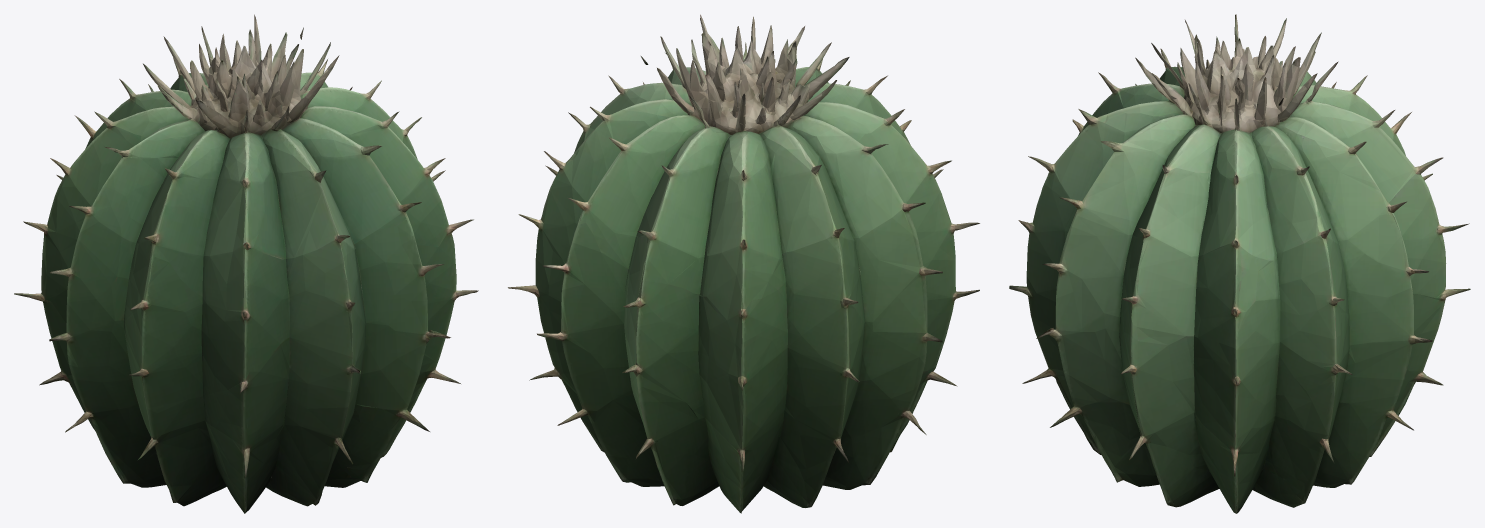
The model's file is barrel_cactus.glb.
The picture shows the model from 3 angles, left to right: view 1: azimuth 30°, elevation 25°; view 2: azimuth 150°, elevation 25°; view 3: azimuth 270°, elevation 25°; orthographic projection.
Visible parts, largest first — view 1: world; view 2: world; view 3: world.
Part boxes in pixels (x1,y1,x2,y2): world: [14, 14, 478, 513]; world: [508, 14, 979, 513]; world: [1009, 14, 1470, 513].
Bounding box in the file's own units: 0.9986 × 0.9987 × 0.999.
Materials: 1 (1 with a texture image).
